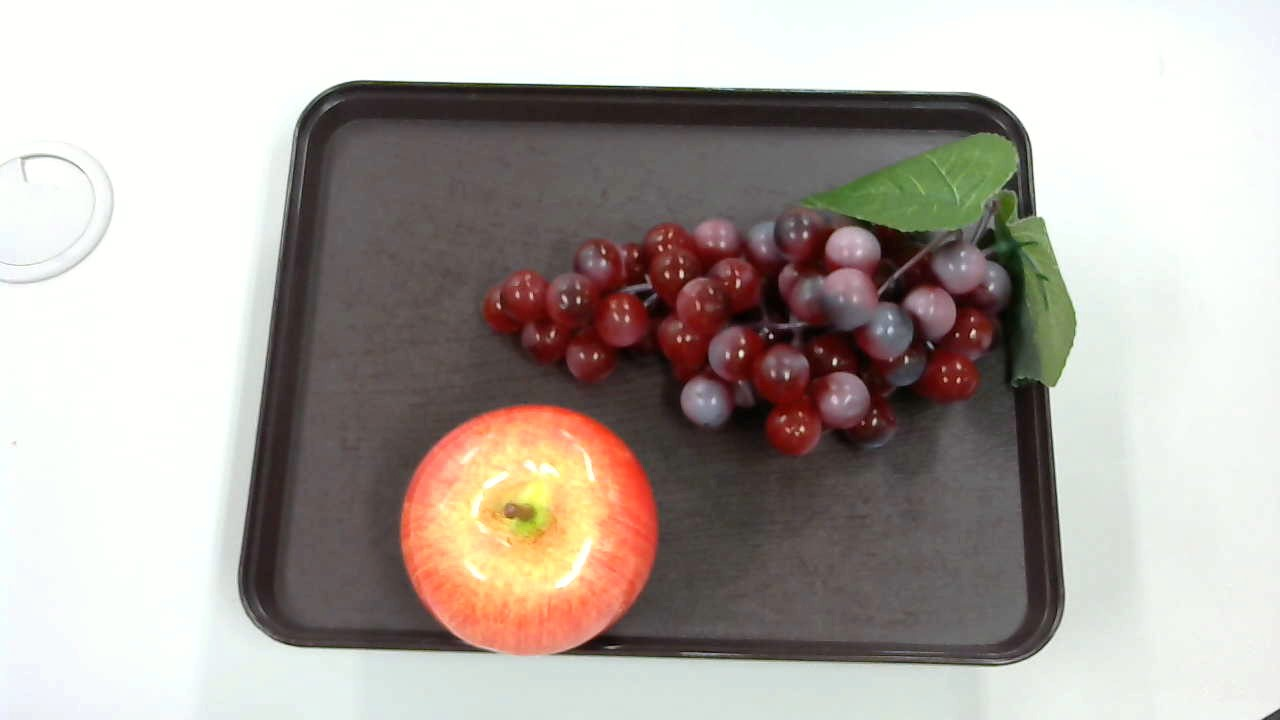grape: (473, 125, 1078, 476)
red apple: (396, 402, 669, 663)
